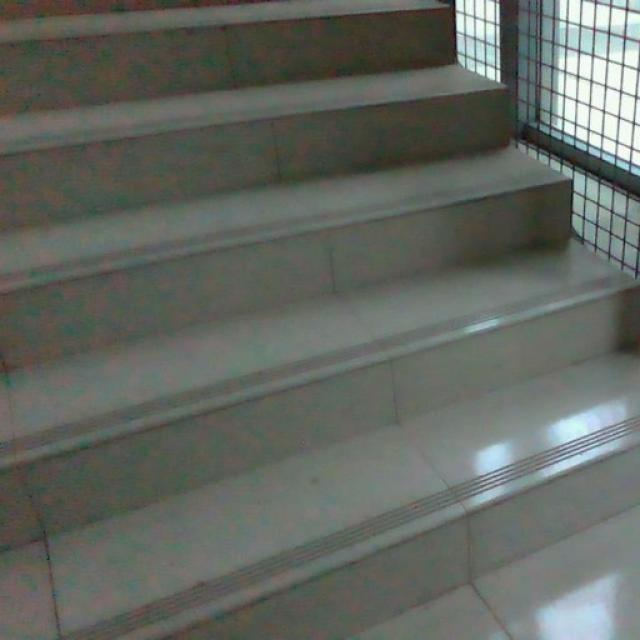stair: (0, 0, 614, 618)
